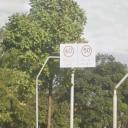speed_limit_50: (80, 45, 92, 56)
speed_limit_60: (62, 46, 74, 57)
